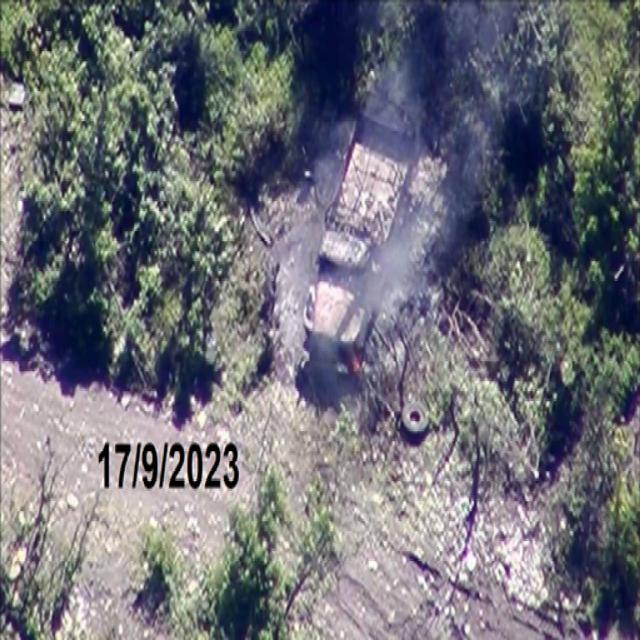TRUCK: (293, 109, 422, 375)
